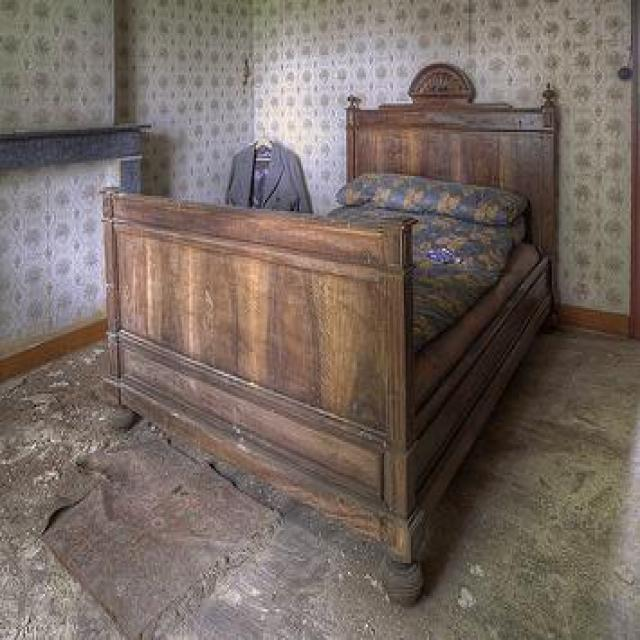bed: (97, 61, 559, 604)
